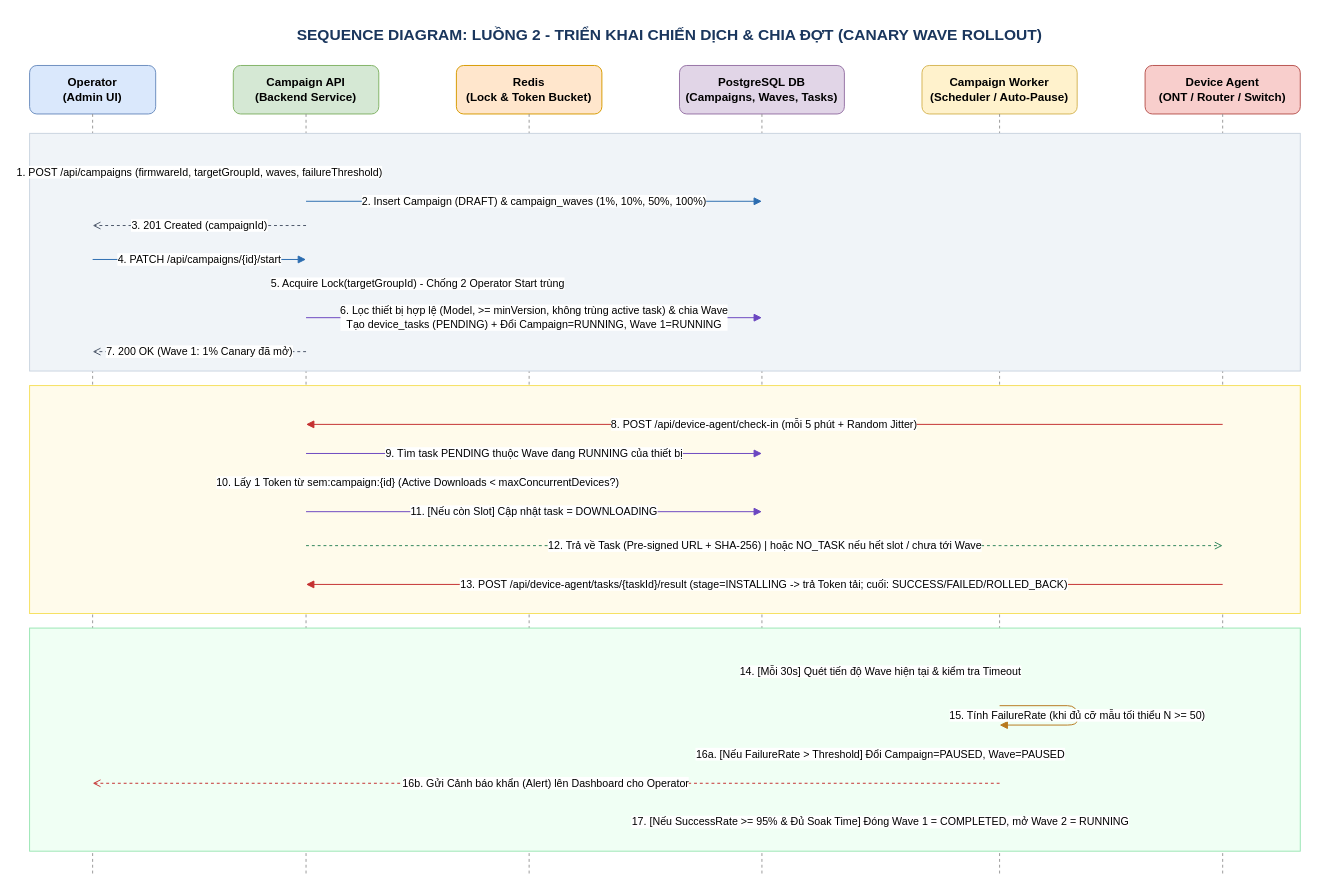
Image size: 1317x893. Some labels were removed from this diagram. The centre of each missing label's shape, as x and y in pixels:
Giai đoạn 1: Tạo & Khởi chạy Chiến dịch (Start Campaign & Concurrency Lock): the point at 664,251
Giai đoạn 2: Thiết bị Check-in & Giới hạn tải tải xuống (maxConcurrentDevices): the point at 664,499
Giai đoạn 3: Giám sát Wave, Tự động Tạm dừng (Auto-Pause) & Mở đợt tiếp theo: the point at 664,739
